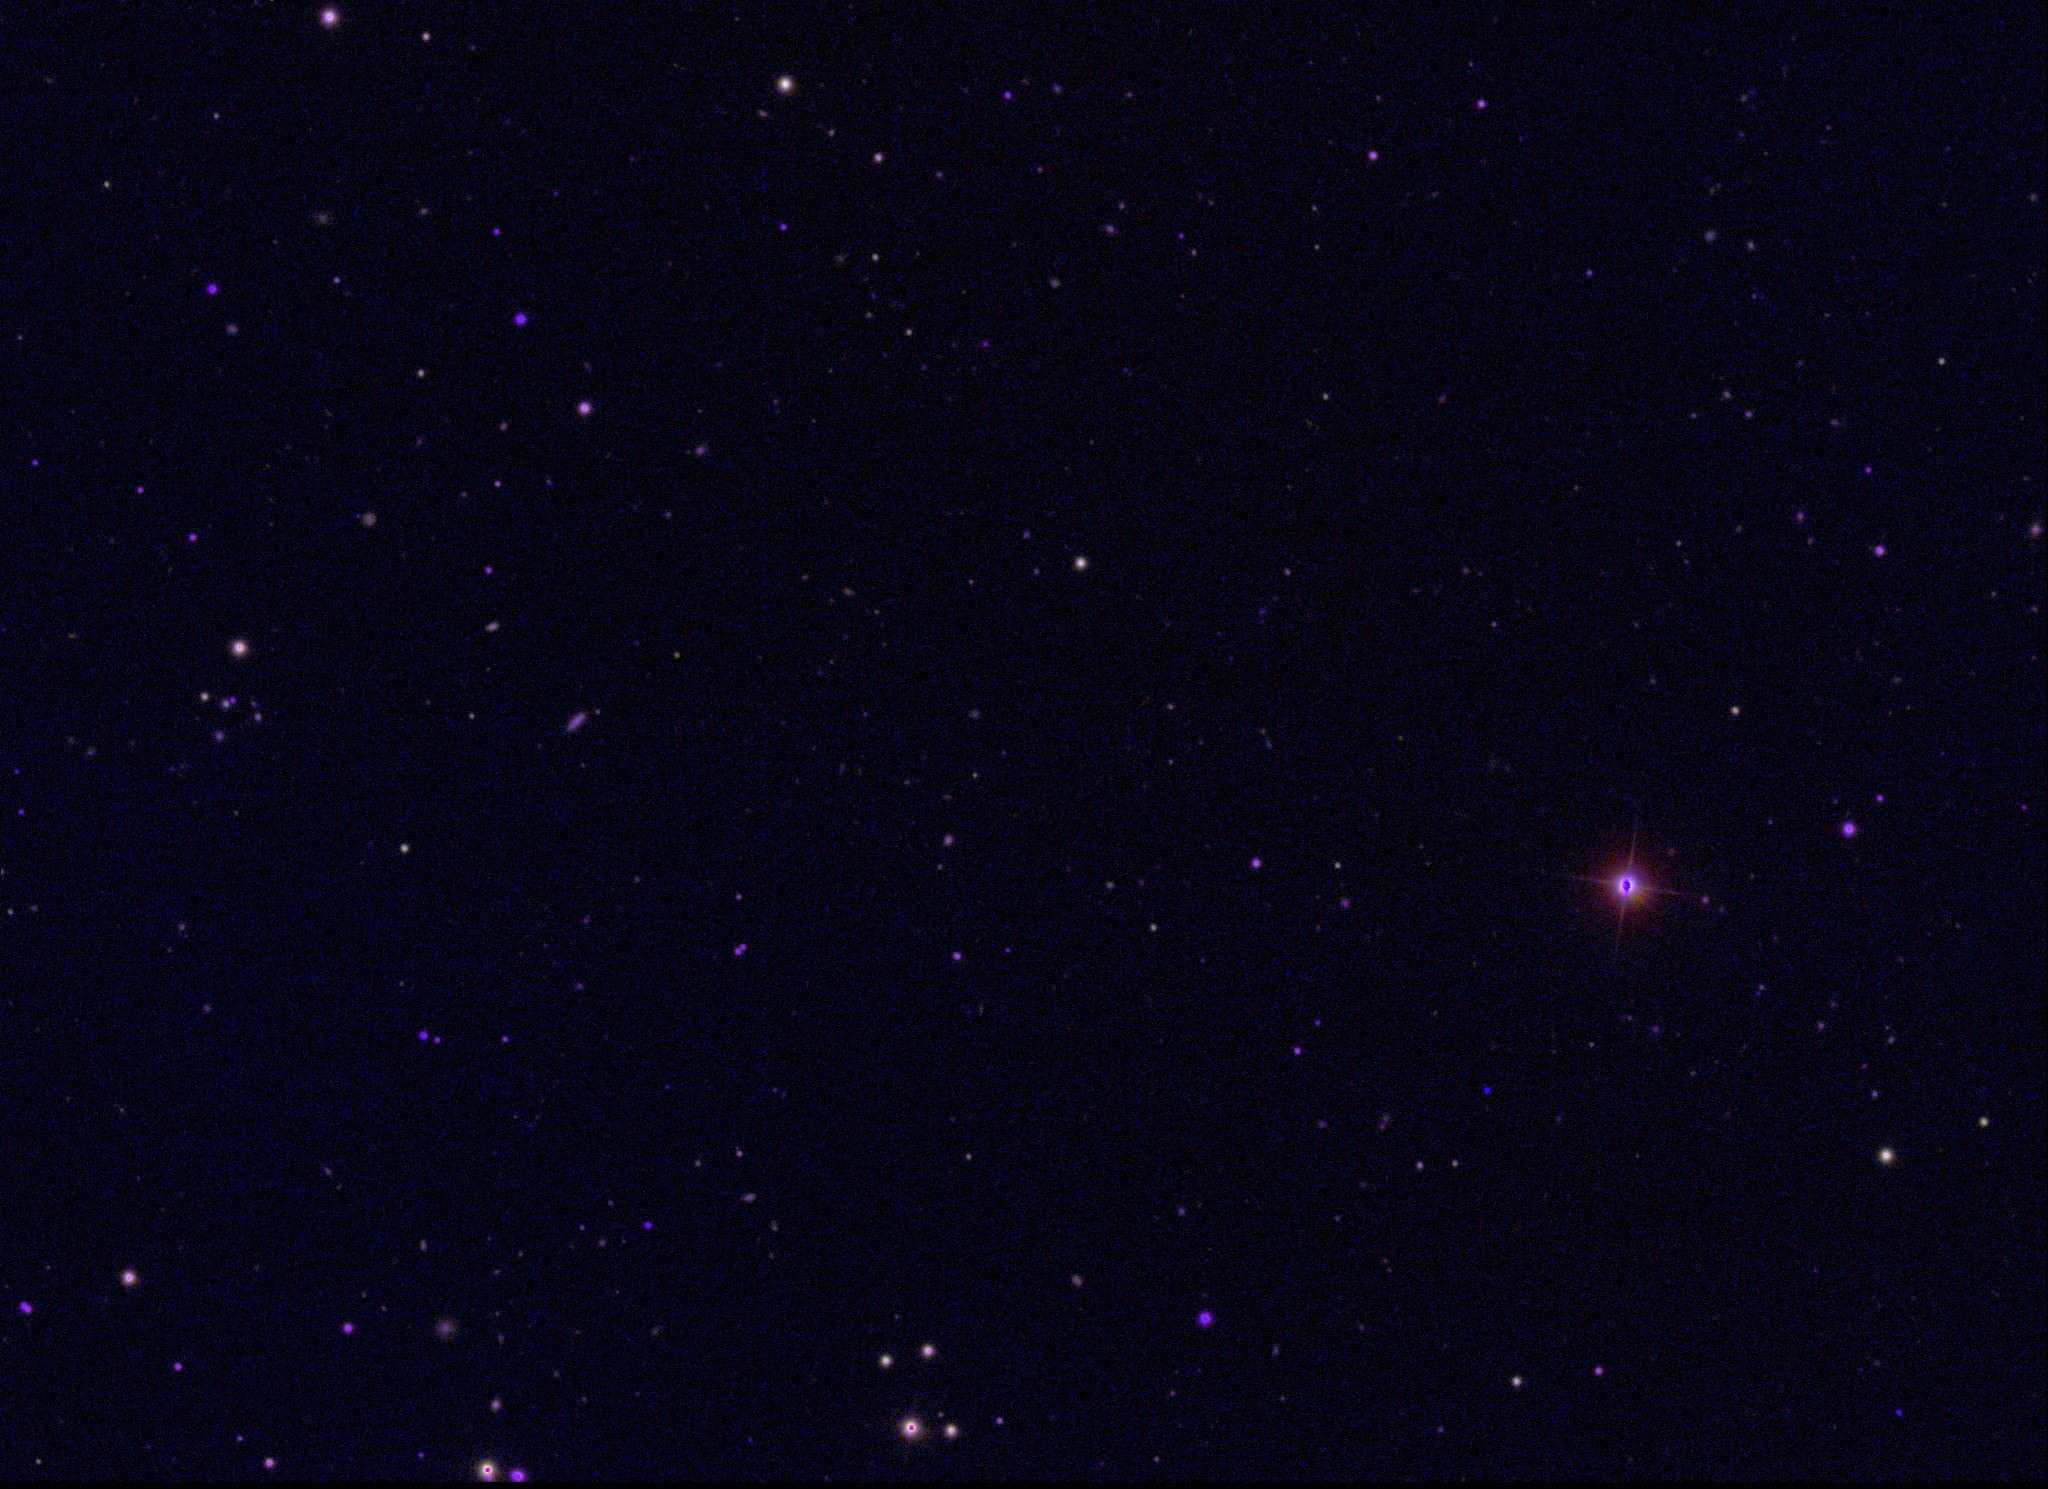L: (1479, 1083, 1493, 1098)
